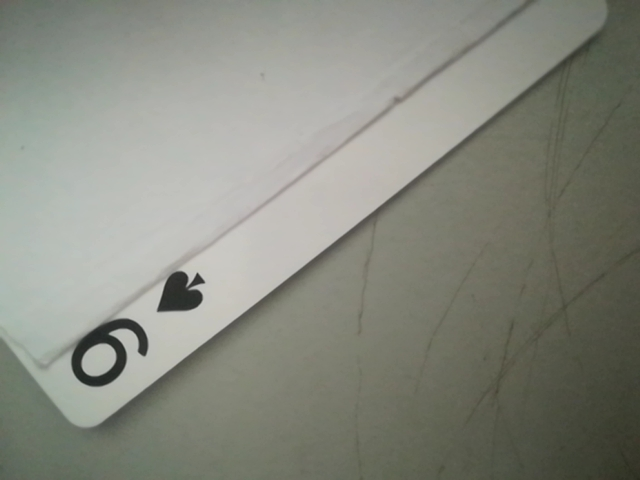ht 9: (44, 259, 214, 414)
